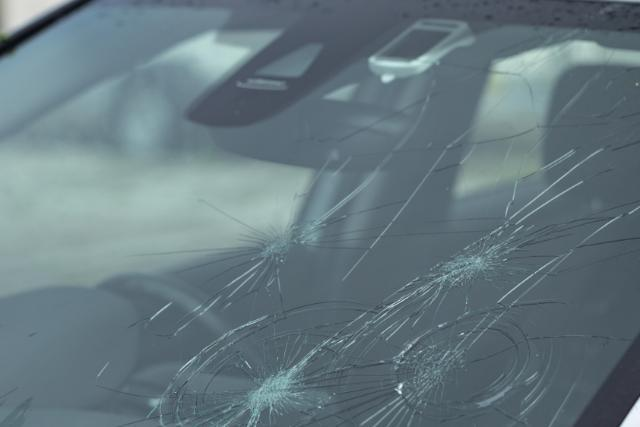Windshield: (89, 50, 632, 427)
